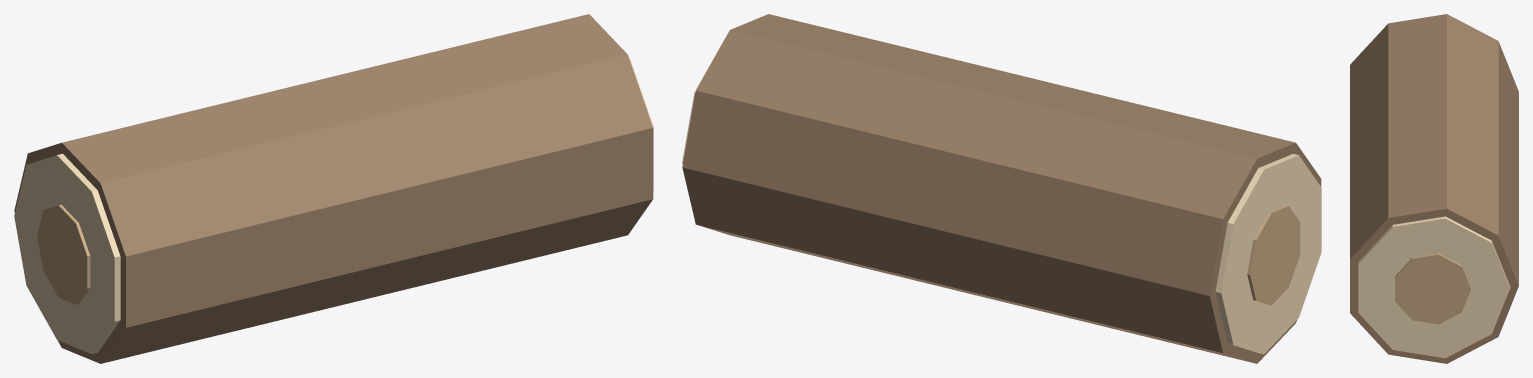
The model's file is LogPiece.fbx.
The picture shows the model from 3 angles, left to right: view 1: azimuth 30°, elevation 25°; view 2: azimuth 150°, elevation 25°; view 3: azimuth 270°, elevation 25°; orthographic projection. The views are drawn at different scales.
Visible parts, largest first — view 1: LogPiece_Mesh; view 2: LogPiece_Mesh; view 3: LogPiece_Mesh.
Part boxes in pixels (x1,y1,x2,y2): LogPiece_Mesh: (14,14,653,363); LogPiece_Mesh: (682,14,1321,363); LogPiece_Mesh: (1350,14,1518,363).
Bounding box in the file's own units: 0.93 × 0.3348 × 0.3297.
